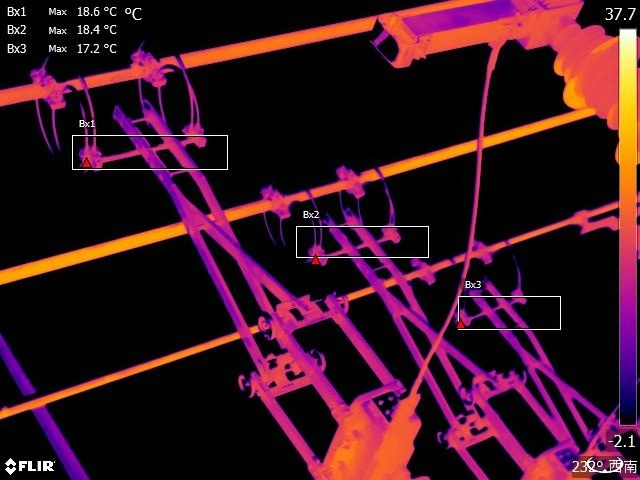clamp: (364, 1, 587, 74)
post insulator: (546, 27, 640, 156)
switch: (114, 98, 344, 397), (333, 202, 480, 430), (471, 267, 620, 439)
